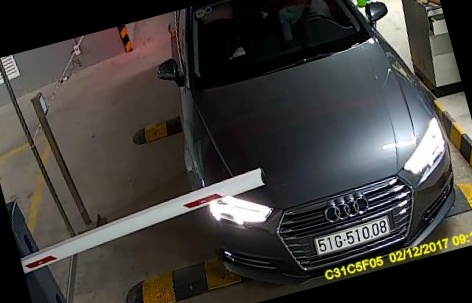plate: (307, 217, 391, 253)
